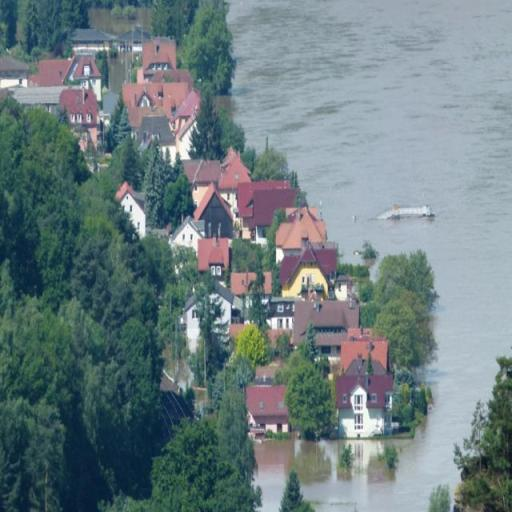house: (334, 334, 395, 442), (230, 172, 296, 238), (302, 294, 350, 358), (194, 182, 236, 244), (282, 245, 330, 298), (246, 386, 286, 440), (60, 84, 102, 132), (169, 216, 204, 252), (33, 54, 69, 88)
